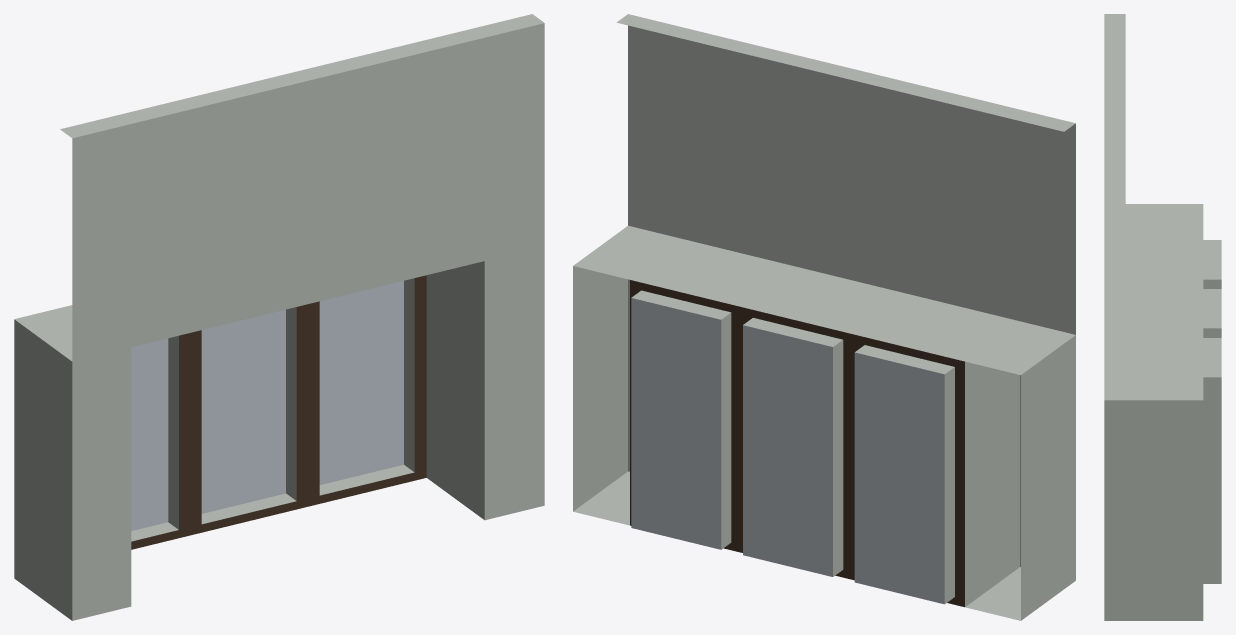
The model's file is fbx_building_2_window2.fbx.
3 views of the same model, side by side, from view 1: azimuth 30°, elevation 25°; view 2: azimuth 150°, elevation 25°; view 3: azimuth 270°, elevation 25° (orthographic). The views are drawn at different scales.
Parts seen in each view (by area): view 1: fbx_building_2_window2; view 2: fbx_building_2_window2; view 3: fbx_building_2_window2.
Boxes of the visible parts, box(x1,y1,x2,y2) form: fbx_building_2_window2: box(14, 14, 544, 620); fbx_building_2_window2: box(573, 14, 1075, 620); fbx_building_2_window2: box(1104, 14, 1221, 620).
Bounding box in the file's own units: 1.1 × 1.07 × 0.2762.
Materials: 2 (1 with a texture image).
